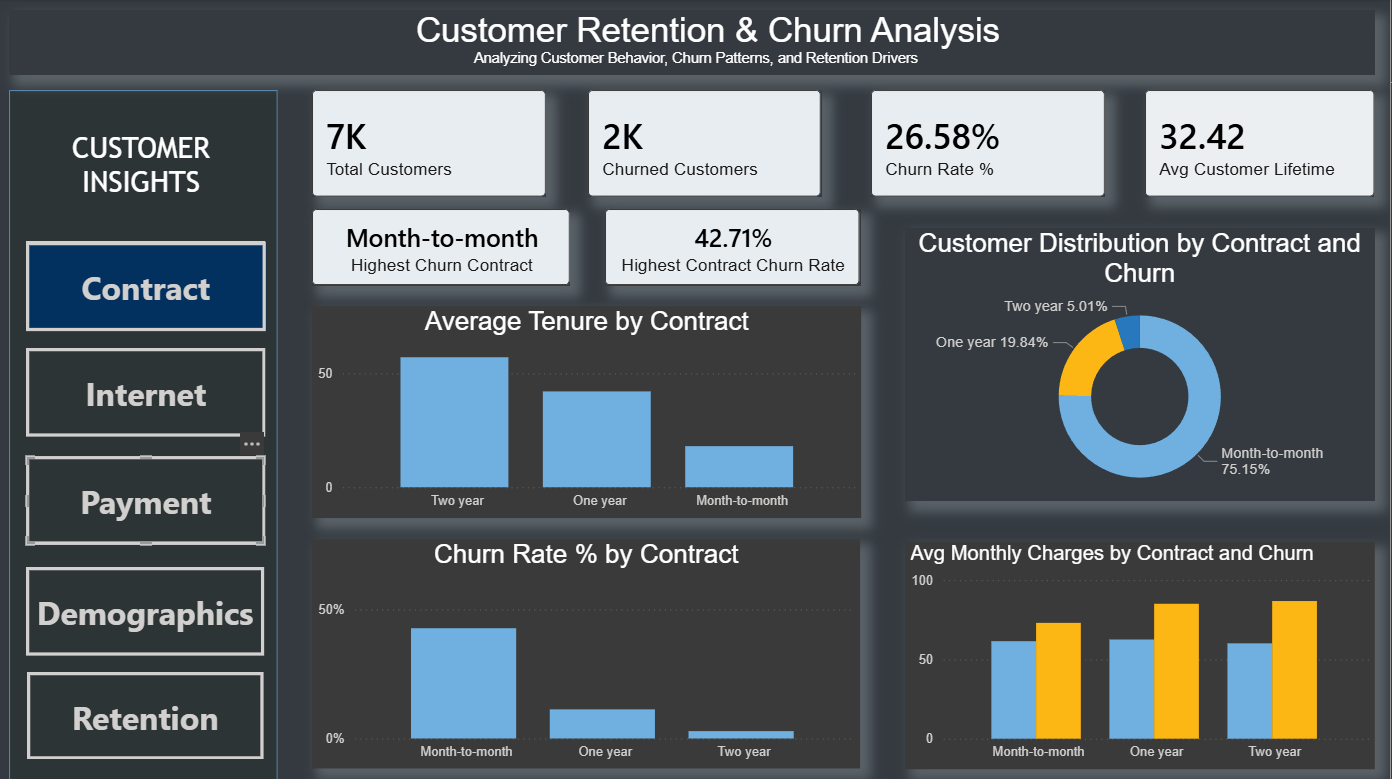

The dashboard page shown, as its layout file describes it:
{"tool":"powerbi","page":{"name":"Page 1","canvas":[1280,720],"ordinal":0},"visuals":[{"type":"cardVisual","fields":{"Data":["telephone.Total Customers"]},"box":[289.1,84.1,215.2,98.1],"z":0},{"type":"cardVisual","fields":{"Data":["telephone.Churned Customers"]},"box":[542.7,83.6,215,98.2],"z":1000},{"type":"cardVisual","fields":{"Data":["telephone.Churn Rate %"]},"box":[802.4,84.1,215.2,98.1],"z":2000},{"type":"cardVisual","fields":{"Data":["telephone.Avg Customer Lifetime"]},"box":[1054.3,83.6,211.1,98.2],"z":3000},{"type":"shape","box":[10.2,84.1,247.1,635.5],"z":4000},{"type":"actionButton","box":[25.5,222.9,220.3,81.5],"z":5000},{"type":"columnChart","fields":{"Category":["telephone.Contract"],"Y":["telephone.Churn Rate %"]},"box":[289.1,496.7,504.4,211.4],"z":6000},{"type":"donutChart","fields":{"Y":["telephone.Churn Rate %"],"Category":["telephone.Contract"]},"box":[834.2,210.1,431.8,250.9],"z":7000},{"type":"clusteredColumnChart","fields":{"Category":["telephone.Contract"],"Y":["telephone.Avg Monthly Charges"],"Series":["telephone.Churn"]},"box":[834.2,499.3,431.8,208.9],"z":8000},{"type":"columnChart","fields":{"Category":["telephone.Contract"],"Y":["telephone.Average Tenure"]},"box":[289.1,271.3,504.4,205.1],"z":9000},{"type":"cardVisual","fields":{"Data":["telephone.Highest Churn Contract"]},"box":[289.1,193.6,427.9,57.3],"z":10000},{"type":"actionButton","box":[25.5,321,220.3,81.5],"z":11000},{"type":"actionButton","box":[25.5,420.3,220.3,81.5],"z":33000},{"type":"actionButton","box":[25.5,522.2,219.1,81.5],"z":34000},{"type":"actionButton","box":[26.8,618.4,217.6,80.5],"z":35000},{"type":"textbox","box":[23.4,101.2,216.9,109],"z":36000},{"type":"textbox","box":[10.2,10.2,1255.8,59.9],"z":37000},{"type":"actionButton","box":[25.3,223.5,220.5,82],"z":38000}]}

Visuals, with their boxes in screenshot pixels (x1, y1, x2, y2), scaled from the page's 1280x720 canvas onto the 1392x779 screenshot:
cardVisual - telephone.Total Customers: box(314, 91, 548, 197)
cardVisual - telephone.Churned Customers: box(590, 90, 824, 197)
cardVisual - telephone.Churn Rate %: box(873, 91, 1107, 197)
cardVisual - telephone.Avg Customer Lifetime: box(1147, 90, 1376, 197)
shape: box(11, 91, 280, 778)
actionButton: box(28, 241, 267, 329)
columnChart - telephone.Contract x telephone.Churn Rate %: box(314, 537, 863, 766)
donutChart - telephone.Churn Rate % x telephone.Contract: box(907, 227, 1377, 499)
clusteredColumnChart - telephone.Contract x telephone.Avg Monthly Charges: box(907, 540, 1377, 766)
columnChart - telephone.Contract x telephone.Average Tenure: box(314, 294, 863, 515)
cardVisual - telephone.Highest Churn Contract: box(314, 209, 780, 271)
actionButton: box(28, 347, 267, 435)
actionButton: box(28, 455, 267, 543)
actionButton: box(28, 565, 266, 653)
actionButton: box(29, 669, 266, 756)
textbox: box(25, 109, 261, 227)
textbox: box(11, 11, 1377, 76)
actionButton: box(28, 242, 267, 331)
